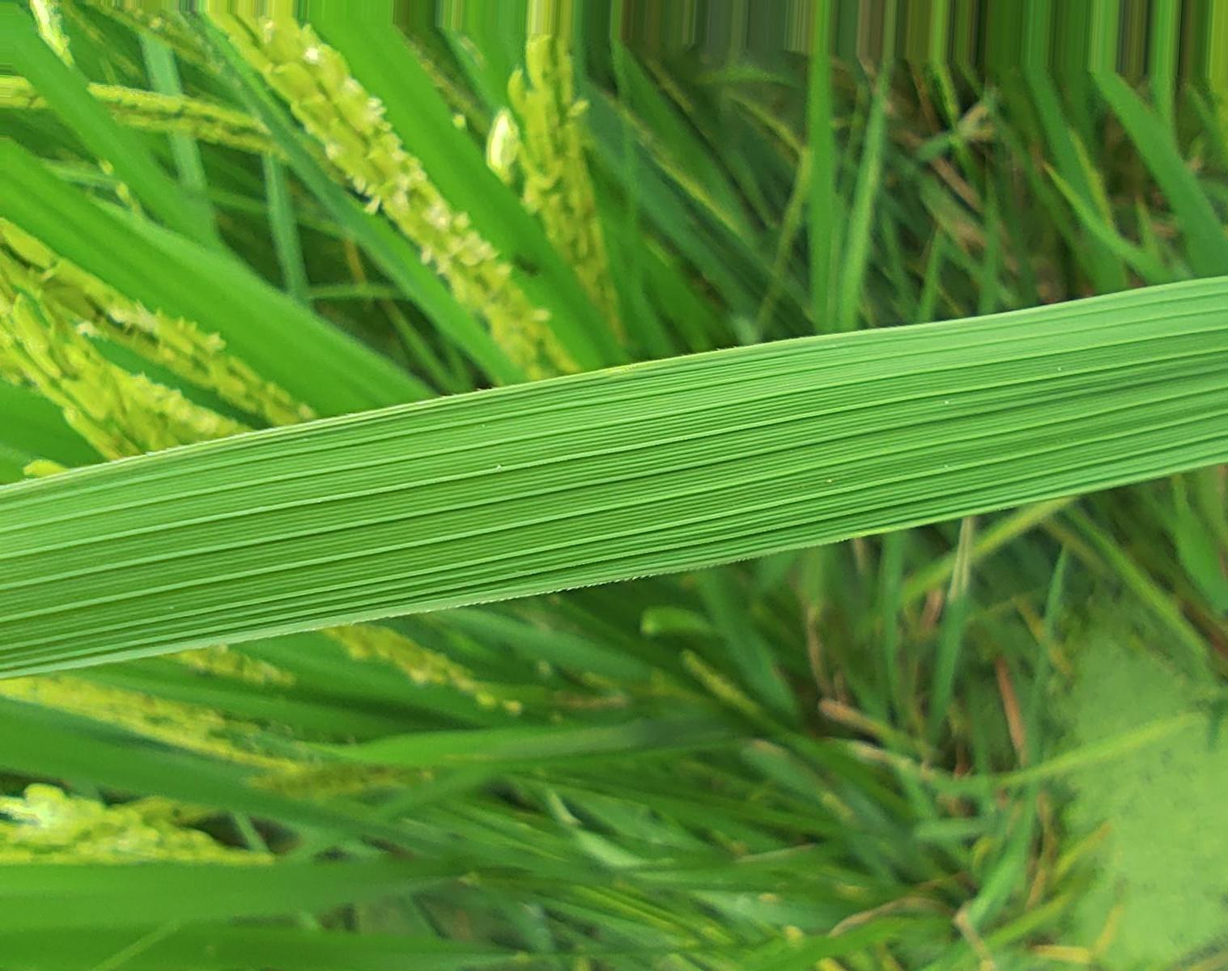Healthy: (1, 277, 1228, 675)
